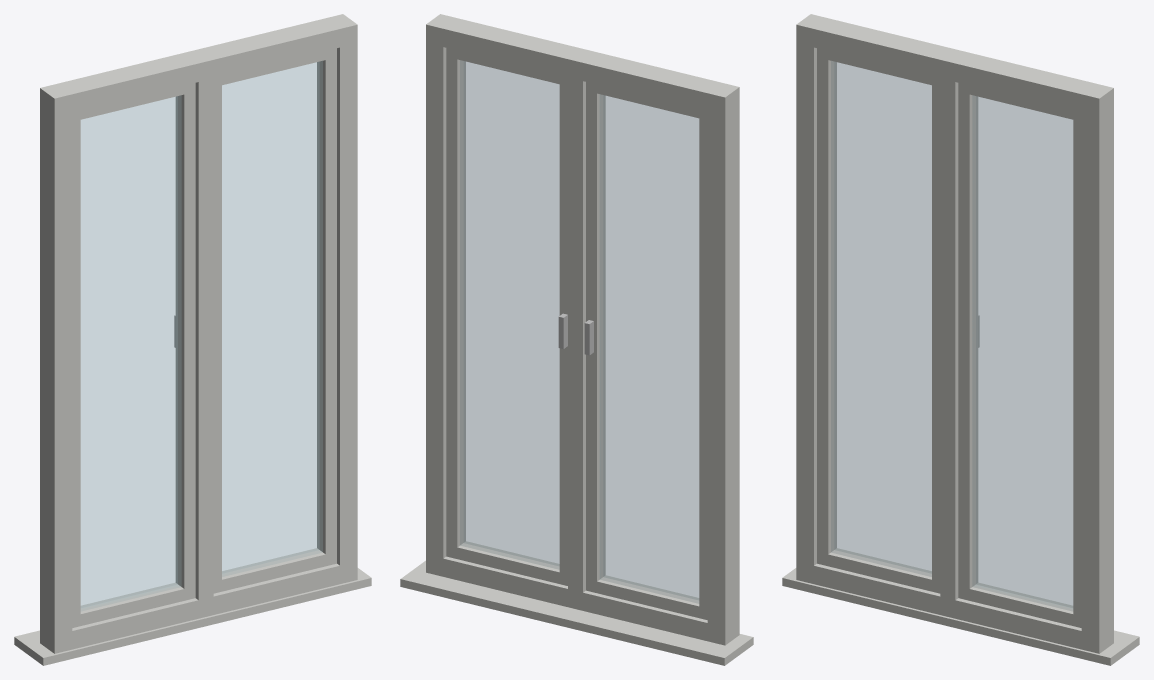
The model's file is opening.window.casement_1200x2100.glb.
3 views of the same model, side by side, from view 1: azimuth 30°, elevation 25°; view 2: azimuth 150°, elevation 25°; view 3: azimuth 330°, elevation 25° (orthographic).
Visible parts, largest first — view 1: glazing__glass, frame__paint_white; view 2: glazing__glass, frame__paint_white, ironmongery__steel_stainless; view 3: glazing__glass, frame__paint_white.
Boxes of the visible parts, left/top/right/bottom form: glazing__glass: left=81, top=61, right=322, bottom=610; frame__paint_white: left=14, top=14, right=371, bottom=665; glazing__glass: left=460, top=60, right=698, bottom=603; frame__paint_white: left=400, top=14, right=753, bottom=665; ironmongery__steel_stainless: left=558, top=313, right=593, bottom=355; glazing__glass: left=831, top=61, right=1072, bottom=610; frame__paint_white: left=782, top=14, right=1139, bottom=665.
Bounding box in the file's own units: 1.3 × 2.13 × 0.2.
